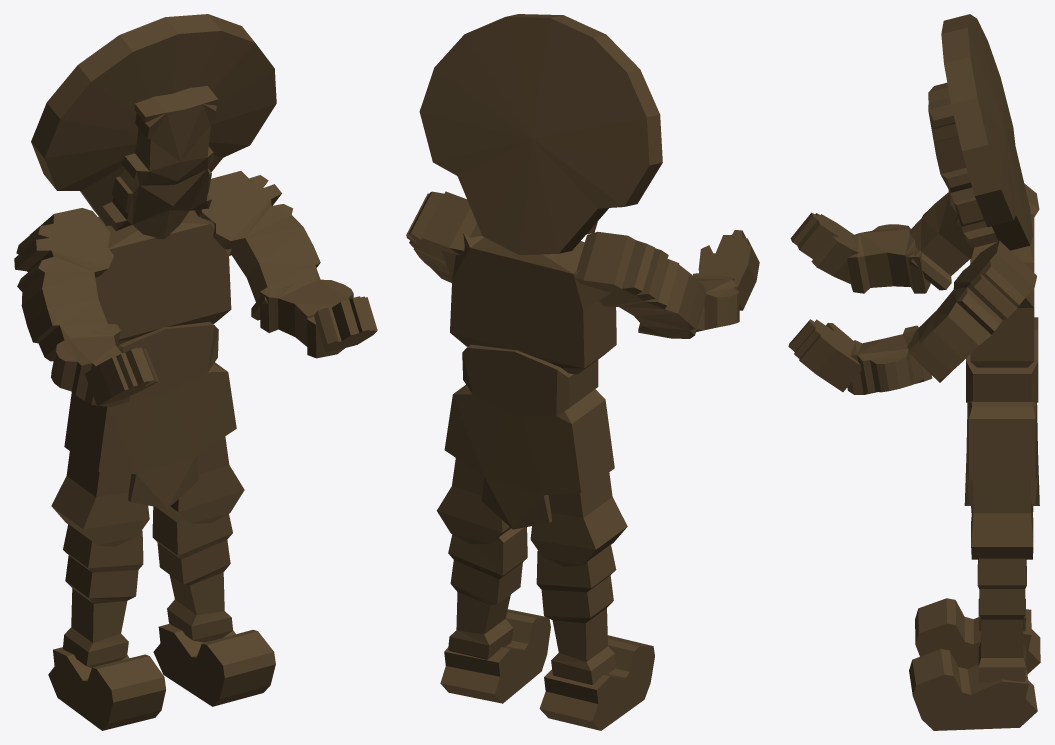
The model's file is ADDON_LSTTEMP_STONEGUARDIAN_MEDIUM_01.OBJ.
3 renders of one model, left to right at view 1: azimuth 30°, elevation 25°; view 2: azimuth 150°, elevation 25°; view 3: azimuth 270°, elevation 25°, orthographic. The views are drawn at different scales.
Visible parts, largest first — view 1: ADDON_LSTTEMP_STONEGUARDIAN_MEDIUM_01; view 2: ADDON_LSTTEMP_STONEGUARDIAN_MEDIUM_01; view 3: ADDON_LSTTEMP_STONEGUARDIAN_MEDIUM_01.
Boxes of the visible parts, x1,y1,x2,y2 form: ADDON_LSTTEMP_STONEGUARDIAN_MEDIUM_01: (14, 14, 377, 730); ADDON_LSTTEMP_STONEGUARDIAN_MEDIUM_01: (406, 14, 759, 730); ADDON_LSTTEMP_STONEGUARDIAN_MEDIUM_01: (788, 14, 1040, 730).
Size of the model in its own units: 2.98 by 6.56 by 2.26.
